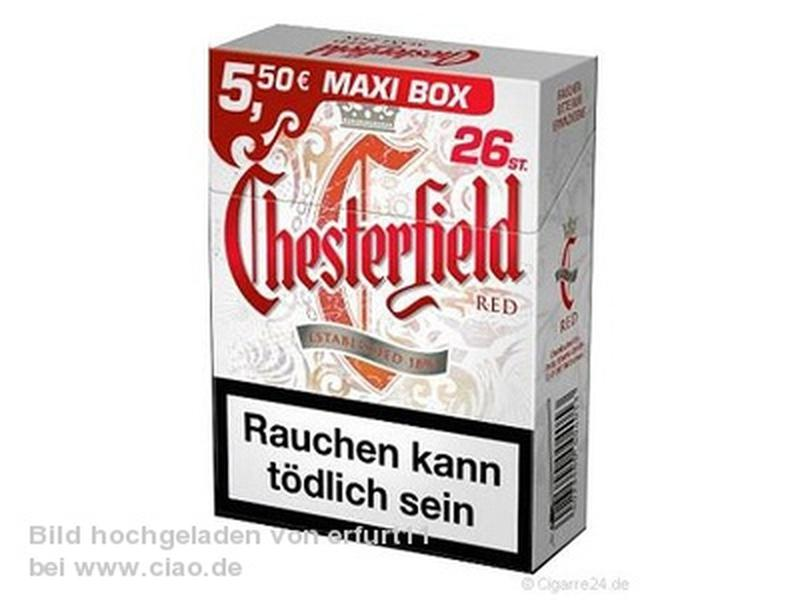chesterfield_red: (213, 82, 535, 514)
